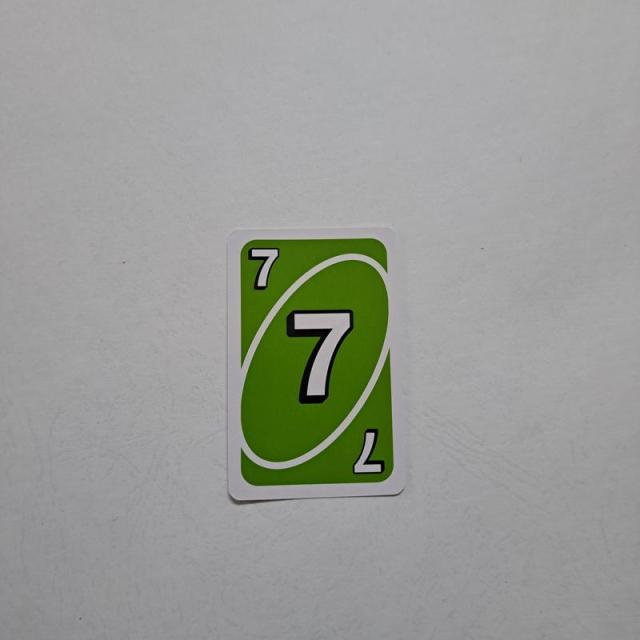Green_Card: (236, 232, 399, 491)
Number_7: (243, 239, 284, 298)
